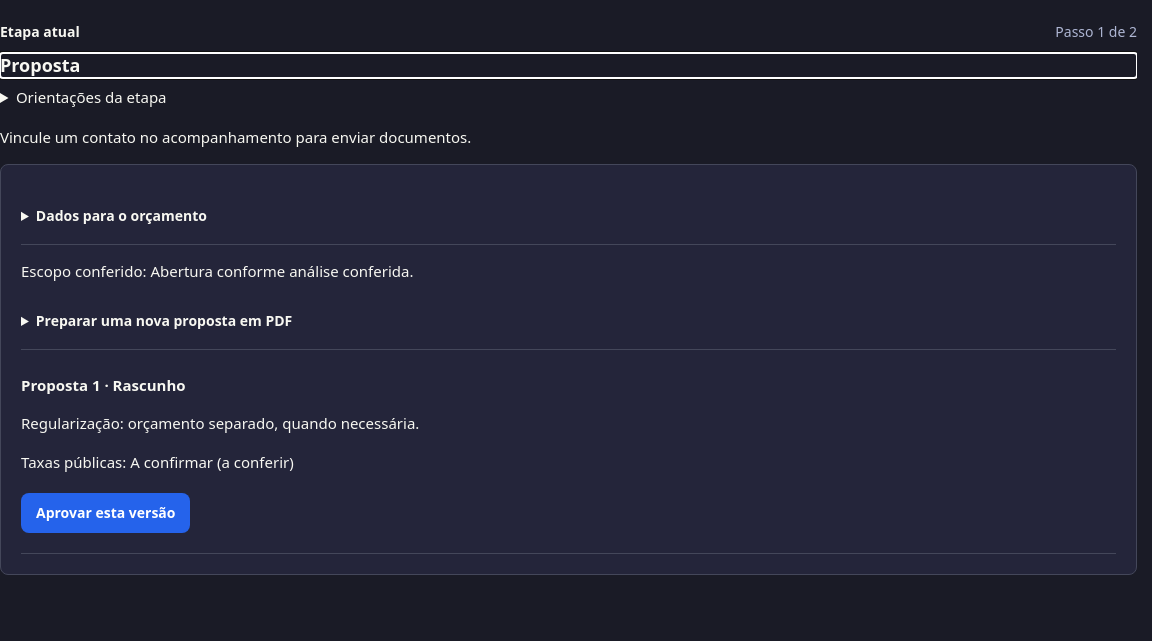
Test: gerar proposta pela aba de preparação mostra imediatamente o resultado (anterior: true)
Click the heading "Preparar uma nova proposta em PDF" at (164, 320), box x1=36 y1=311 x2=292 y2=330
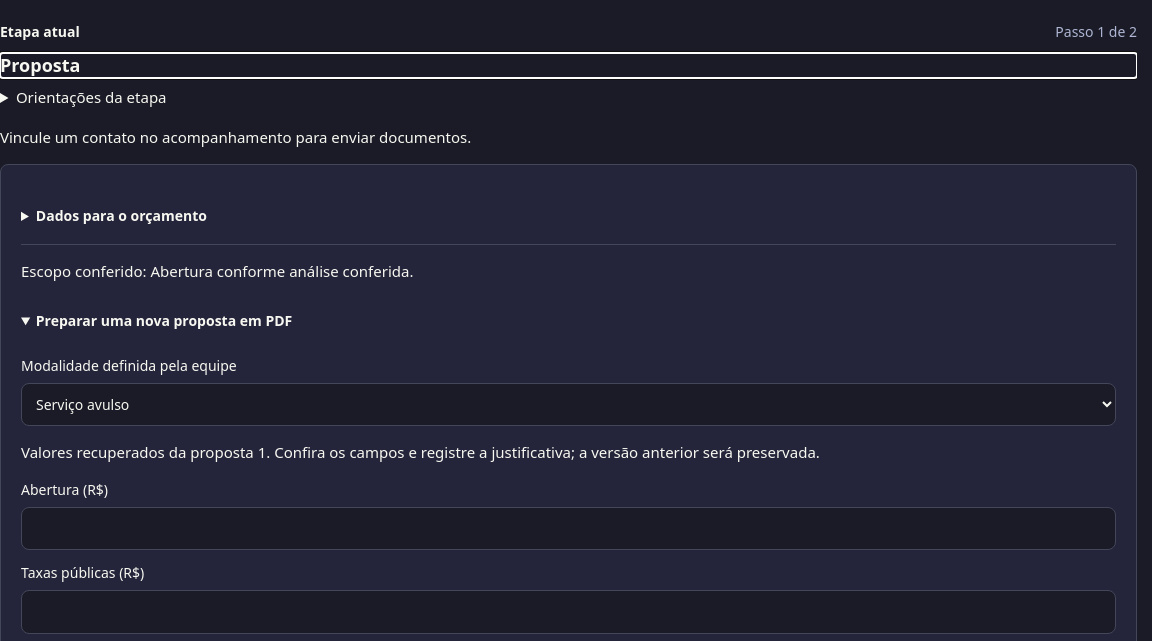
Type "895" into the field labelled "Abertura (R$)" at (568, 528), box x1=21 y1=507 x2=1116 y2=550
(page scrolled)
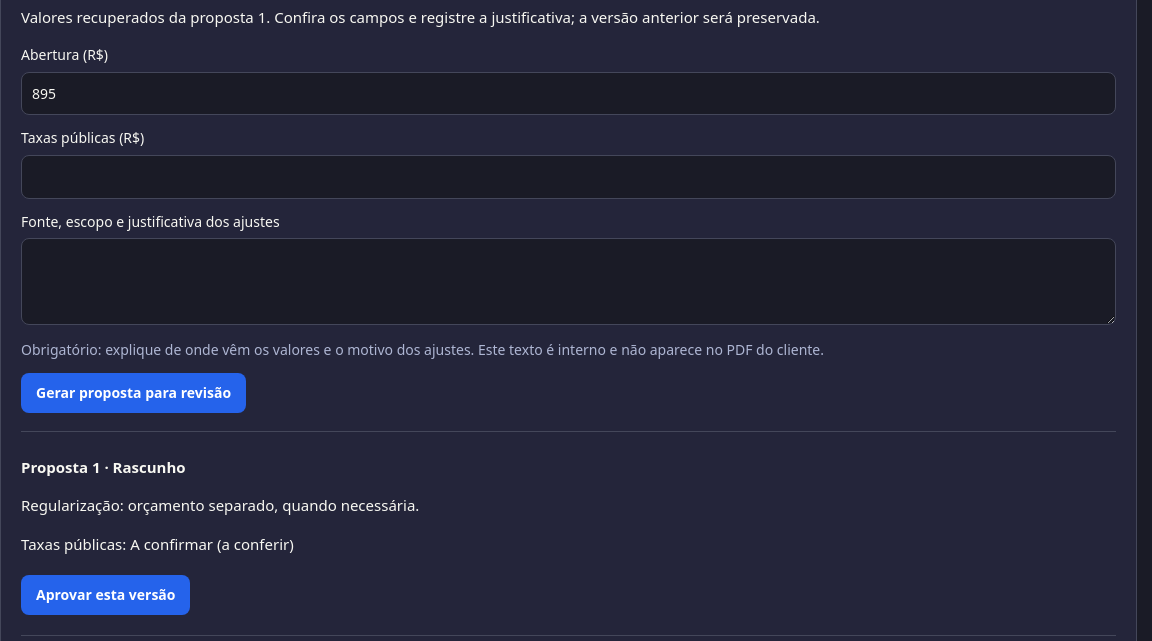
Type "Orçamento de abertura conferido pelo escritório." into the text box labelled "Fonte, escopo e justificativa dos ajustes" at (568, 282), box x1=21 y1=238 x2=1116 y2=326
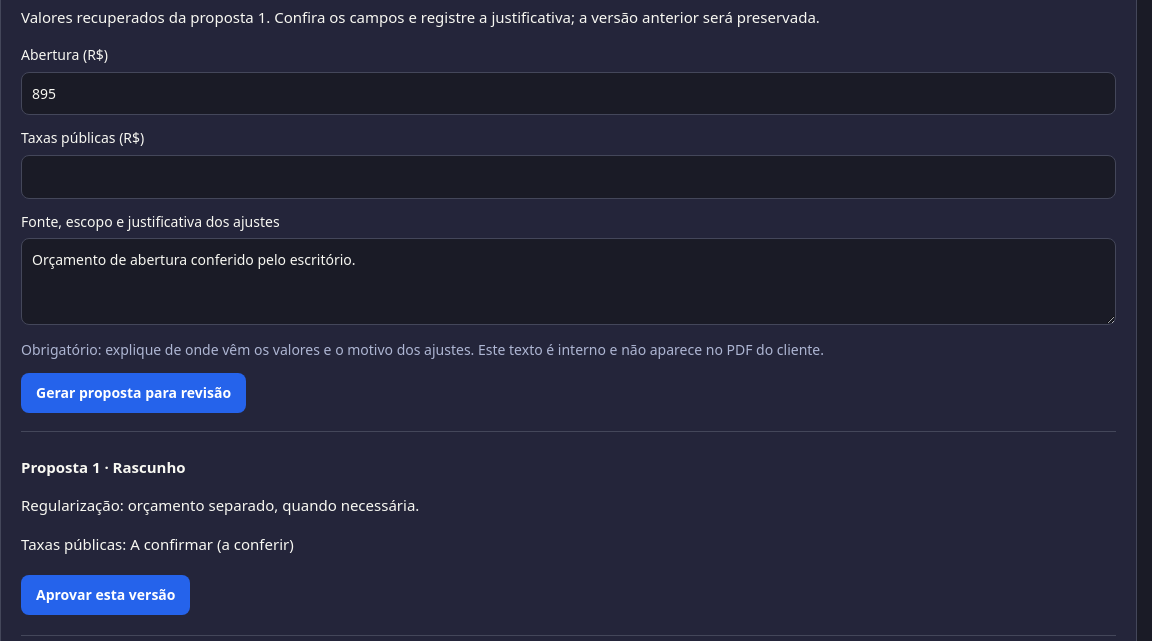
Click the button "Gerar proposta para revisão" at (134, 393), box x1=21 y1=373 x2=246 y2=413
(page scrolled)
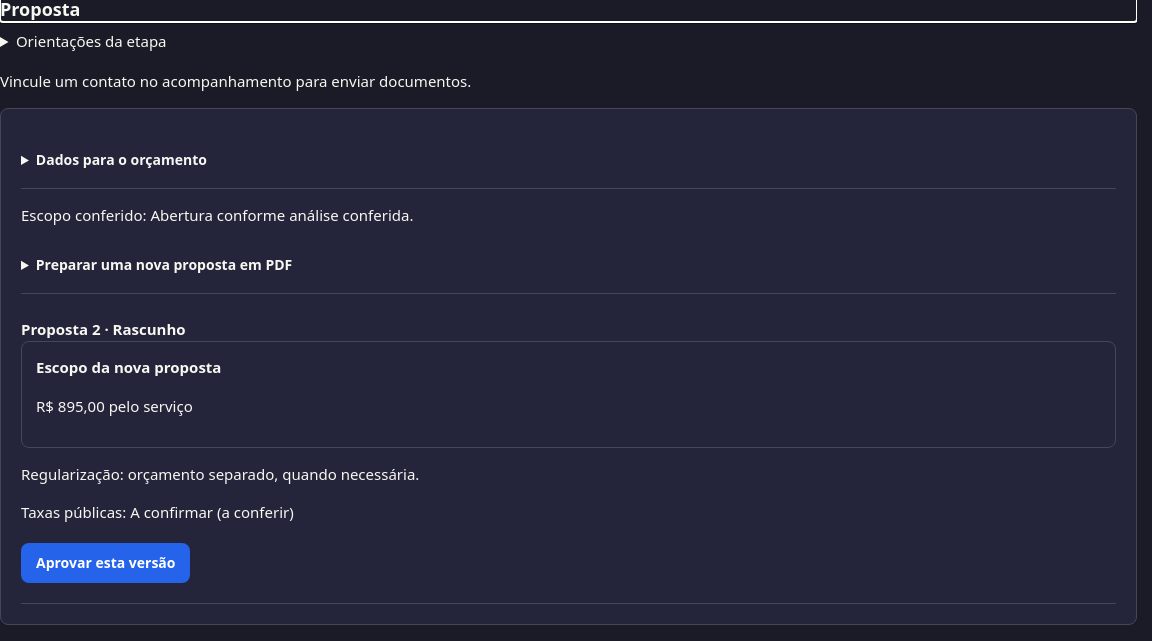
Expected: the button "Aprovar esta versão" is shown, x1=21 y1=543 x2=190 y2=583
Now the text "Proposta 2 · Rascunho" is shown, box x1=21 y1=319 x2=186 y2=339
Now the text "Escopo da nova proposta" is shown, box x1=36 y1=357 x2=221 y2=377
